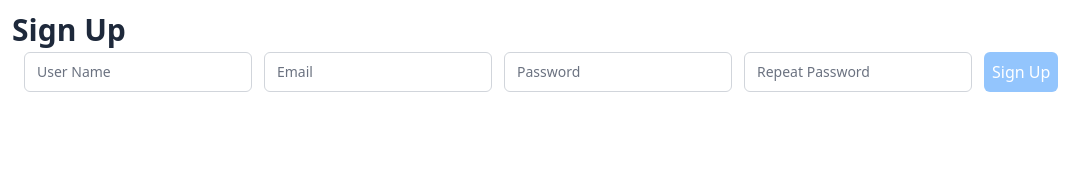
Signup page › Interactions › enables the button when password repeat fields have same value
The image size is (1075, 172).
In the field with placeholder "User Name": (138, 72) [24,52,252,92], type "user1"
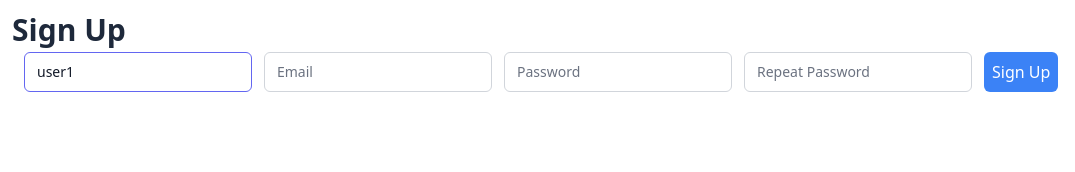
In the field with placeholder "Email": (378, 72) [264,52,492,92], type "user1@gmail.com"
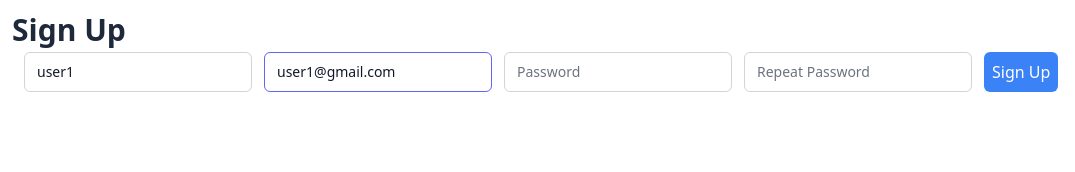
In the password field with placeholder "Password": (618, 72) [504,52,732,92], type "P4ssword"
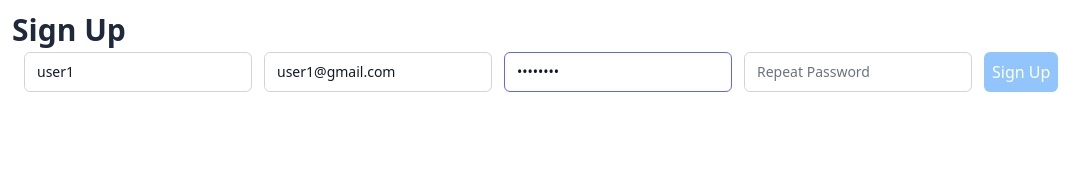
In the password field with placeholder "Repeat Password": (858, 72) [744,52,972,92], type "P4ssword"
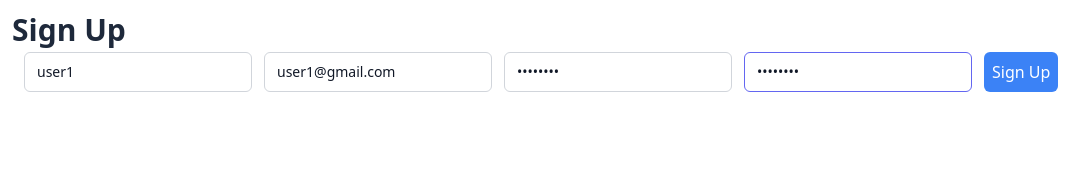
Expected: the button "Sign Up" is enabled, [984,52,1058,92]
